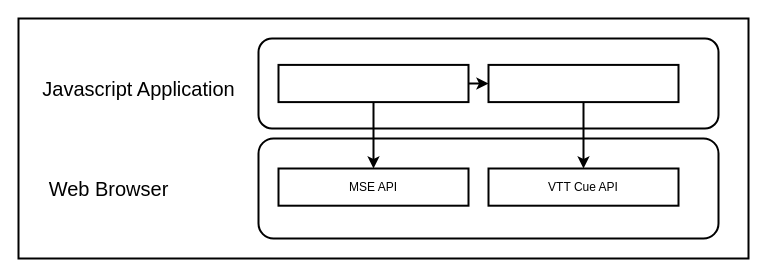
The diagram is 766 pixels wide and 276 high, and some of its shapes have lost their labels. Here are the shapes that lost their labels. From the top down, the centre of each, then its label:
the point at 373,83: Player Engine
the point at 583,83: Subtitle Parser
